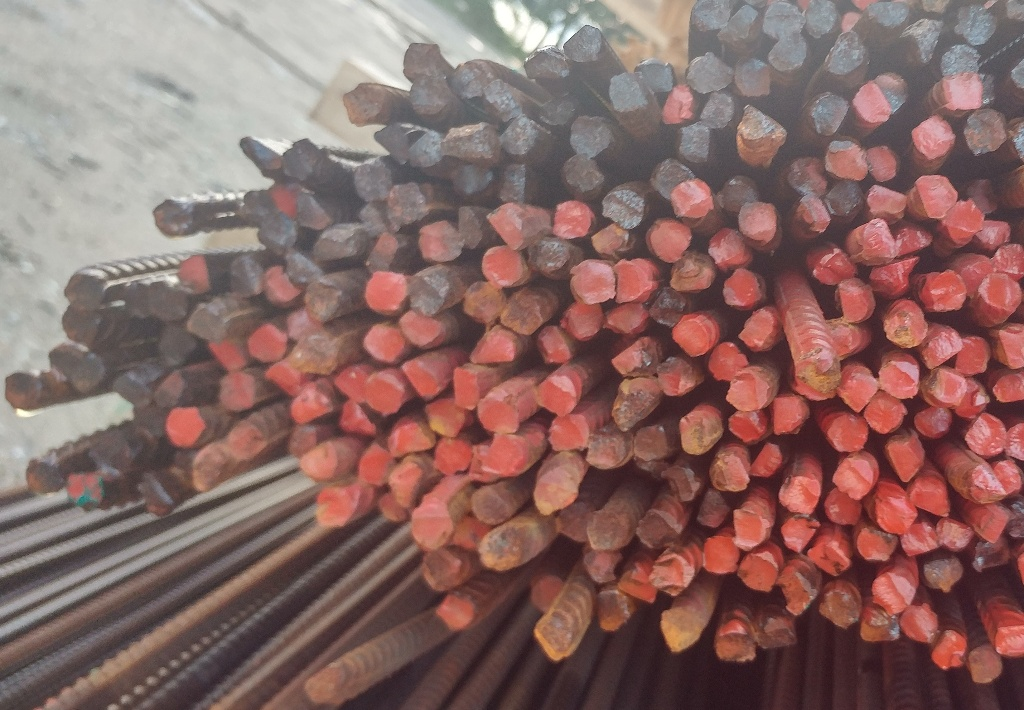dipstick: (616, 379, 656, 429), (444, 124, 497, 161), (419, 221, 463, 263), (570, 263, 615, 304), (687, 51, 732, 92), (884, 302, 925, 346), (736, 105, 782, 144), (963, 110, 1004, 153), (171, 451, 216, 490), (411, 505, 452, 547), (825, 33, 866, 75), (240, 137, 283, 177), (535, 471, 575, 514), (886, 436, 925, 480), (870, 574, 915, 612), (966, 413, 1004, 458), (483, 528, 519, 575), (145, 282, 187, 322), (344, 82, 384, 124), (613, 338, 656, 377), (914, 117, 953, 160), (366, 273, 407, 313), (722, 267, 762, 308), (826, 141, 867, 181), (915, 176, 956, 216), (738, 202, 776, 245), (662, 609, 700, 652), (483, 247, 522, 288), (539, 374, 578, 415), (152, 199, 195, 236), (636, 512, 680, 548), (780, 567, 813, 615), (390, 182, 425, 227), (874, 258, 920, 292), (925, 271, 963, 312), (922, 329, 960, 370), (363, 326, 406, 362), (504, 294, 540, 337), (318, 488, 357, 527), (409, 77, 448, 116), (218, 371, 256, 411), (832, 459, 872, 497), (957, 6, 997, 44), (291, 338, 337, 371), (763, 2, 805, 38), (838, 279, 874, 321), (616, 260, 651, 303), (411, 271, 445, 315), (463, 284, 502, 322), (403, 41, 442, 79), (780, 477, 819, 515), (901, 605, 939, 644), (484, 436, 524, 473), (553, 199, 590, 239), (681, 415, 721, 452), (286, 139, 321, 181), (525, 47, 567, 82), (490, 205, 523, 249), (908, 18, 941, 62), (570, 115, 608, 153), (652, 222, 690, 260), (981, 278, 1019, 316), (259, 214, 296, 253), (166, 408, 205, 445), (226, 422, 265, 459), (564, 302, 601, 341), (500, 115, 536, 155), (709, 455, 749, 491), (774, 396, 810, 436), (727, 376, 769, 410), (468, 332, 515, 362), (604, 191, 642, 228), (708, 343, 746, 380), (720, 5, 757, 43), (62, 305, 98, 344), (534, 622, 570, 661), (548, 415, 587, 451), (653, 556, 689, 595), (820, 592, 859, 628), (739, 308, 774, 348), (798, 353, 838, 388), (969, 464, 1003, 505), (422, 551, 459, 588), (64, 267, 100, 305), (942, 74, 980, 110), (946, 200, 984, 236), (825, 491, 861, 529), (913, 479, 951, 515), (177, 255, 212, 294), (97, 439, 132, 478), (67, 357, 107, 391), (408, 127, 442, 167), (391, 423, 432, 456), (479, 401, 520, 434), (605, 304, 648, 335), (710, 229, 746, 266), (881, 362, 918, 398), (791, 157, 826, 195), (876, 498, 914, 533), (295, 191, 329, 230), (308, 283, 342, 322), (565, 158, 605, 191), (715, 629, 755, 662), (356, 161, 388, 202), (815, 93, 847, 134), (815, 252, 857, 283), (438, 594, 474, 630), (113, 373, 150, 408), (566, 24, 601, 61), (842, 374, 879, 409), (973, 503, 1008, 540), (657, 360, 695, 394), (736, 60, 770, 98), (829, 417, 867, 451), (390, 460, 418, 506), (360, 445, 393, 484), (437, 438, 470, 477), (855, 84, 888, 123), (957, 254, 990, 293), (160, 325, 192, 365), (876, 73, 908, 113), (6, 373, 41, 409), (248, 326, 285, 360), (189, 306, 226, 340), (137, 477, 174, 511), (924, 558, 961, 592), (932, 632, 966, 669), (729, 410, 767, 443), (722, 174, 755, 212), (780, 520, 818, 553), (471, 491, 510, 523), (862, 221, 893, 261), (315, 230, 356, 260), (756, 619, 797, 649), (589, 514, 624, 549), (587, 433, 621, 469), (26, 460, 63, 493), (453, 61, 486, 98), (610, 73, 643, 110), (656, 162, 693, 195), (866, 398, 903, 431), (230, 258, 262, 296), (942, 45, 980, 77), (927, 371, 966, 402), (367, 377, 401, 412), (342, 402, 377, 436), (427, 401, 462, 435), (741, 556, 776, 590), (531, 239, 567, 272), (584, 550, 620, 583), (673, 320, 706, 356), (597, 593, 629, 630), (805, 1, 837, 38), (704, 537, 736, 574), (209, 341, 248, 371), (701, 94, 735, 128), (375, 127, 408, 162), (901, 522, 936, 555), (497, 161, 525, 202), (798, 195, 829, 232), (971, 645, 1002, 682), (734, 512, 764, 550), (290, 393, 332, 420), (301, 443, 334, 477), (863, 610, 897, 643), (263, 267, 291, 307), (542, 91, 574, 126), (558, 506, 590, 541), (770, 39, 805, 71), (956, 382, 988, 417), (366, 235, 397, 271), (539, 325, 570, 361), (667, 466, 698, 502), (674, 183, 710, 214), (623, 568, 653, 605), (858, 531, 896, 560), (452, 165, 491, 193), (868, 145, 896, 184), (810, 546, 849, 574), (153, 371, 183, 407), (867, 187, 907, 214), (286, 255, 323, 284), (663, 86, 692, 123), (404, 366, 437, 398), (633, 427, 665, 460), (828, 181, 861, 213), (336, 368, 367, 402), (915, 407, 949, 438), (973, 540, 1007, 571), (691, 1, 727, 30), (673, 264, 713, 290), (640, 59, 672, 91), (897, 227, 931, 257), (305, 670, 337, 701), (487, 80, 518, 112), (592, 226, 625, 256), (994, 244, 1024, 277), (453, 370, 479, 408), (680, 126, 709, 160), (868, 1, 907, 26), (698, 492, 725, 528), (402, 317, 439, 343), (828, 322, 859, 353), (998, 329, 1022, 369), (958, 338, 985, 373), (653, 292, 684, 322), (239, 191, 276, 216), (360, 203, 388, 236), (69, 475, 103, 502), (454, 516, 480, 551), (271, 179, 298, 212), (267, 364, 300, 391), (967, 178, 994, 211), (752, 443, 778, 477), (533, 577, 561, 608), (939, 522, 972, 548), (995, 625, 1024, 654), (122, 284, 146, 318), (980, 221, 1009, 249), (50, 347, 77, 376), (994, 375, 1024, 401), (287, 313, 321, 335), (379, 495, 407, 521), (460, 209, 480, 245), (470, 446, 490, 479), (290, 427, 315, 452)
